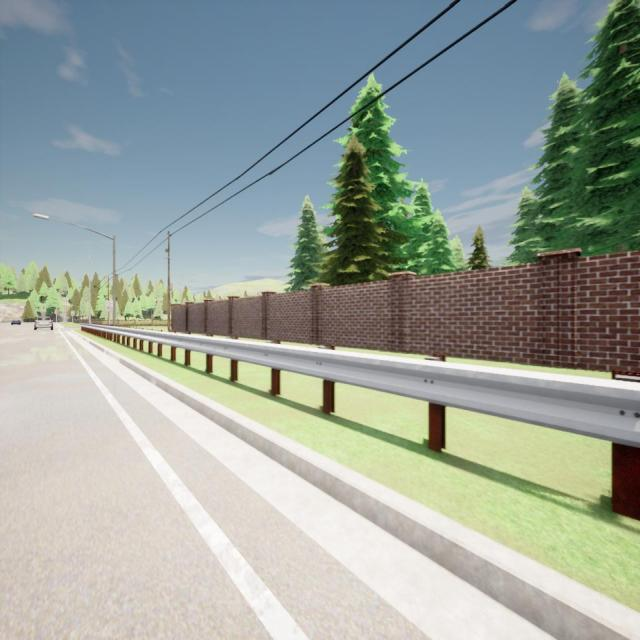Traffic_Signs: (105, 301, 113, 311), (70, 310, 75, 316)
Vehicle: (34, 315, 53, 331), (11, 319, 21, 326)
